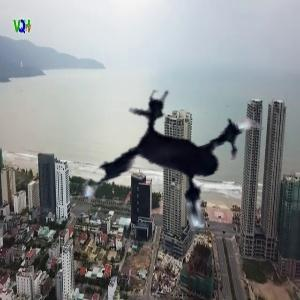drone: (69, 65, 286, 282)
